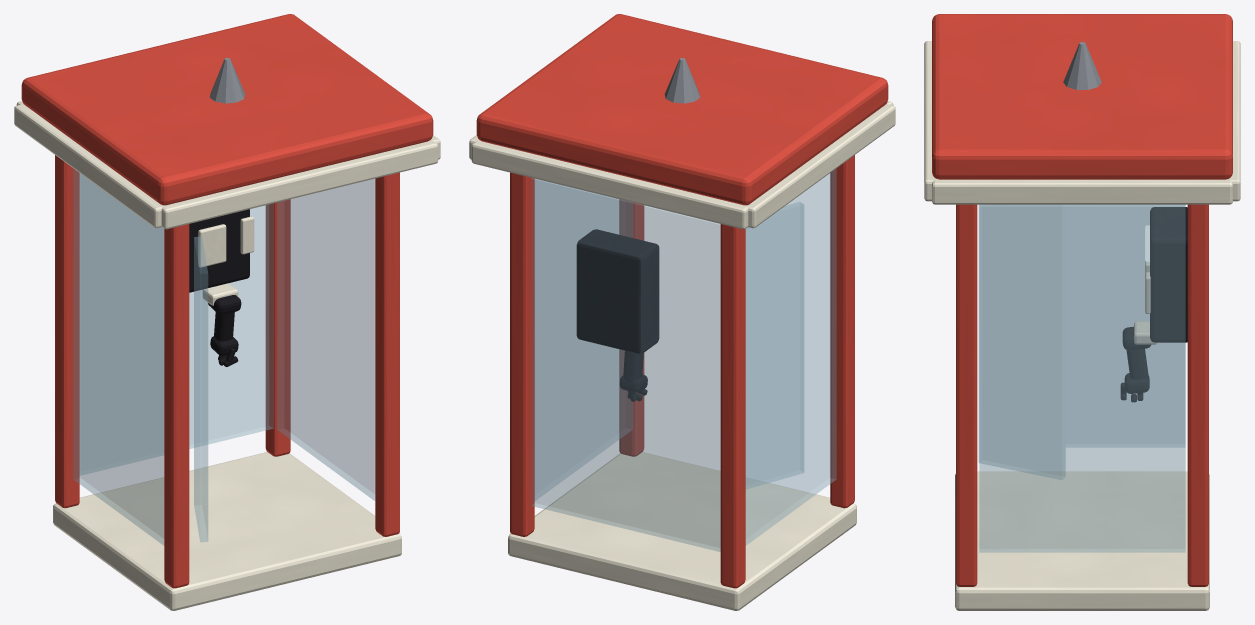
The model's file is misc_street_phone.glb.
The picture shows the model from 3 angles, left to right: view 1: azimuth 30°, elevation 25°; view 2: azimuth 150°, elevation 25°; view 3: azimuth 270°, elevation 25°; orthographic projection. The views are drawn at different scales.
Parts seen in each view (by area): view 1: misc_street_phone_roof, misc_street_phone_glass_back, misc_street_phone_plinth, misc_street_phone_glass_side_l, misc_street_phone_glass_side_r, misc_street_phone_post_lf, misc_street_phone_post_rf, misc_street_phone_post_lb, misc_street_phone_fascia_lf, misc_street_phone_post_rb, misc_street_phone_fascia_l, misc_street_phone_glass_door (+3 smaller); view 2: misc_street_phone_glass_back, misc_street_phone_roof, misc_street_phone_plinth, misc_street_phone_glass_side_l, misc_street_phone_glass_side_r, misc_street_phone_glass_door, misc_street_phone_post_lb, misc_street_phone_unit, misc_street_phone_post_rb, misc_street_phone_post_lf, misc_street_phone_fascia_rf, misc_street_phone_fascia_l (+2 smaller); view 3: misc_street_phone_glass_side_r, misc_street_phone_roof, misc_street_phone_plinth, misc_street_phone_glass_door, misc_street_phone_glass_side_l, misc_street_phone_post_rf, misc_street_phone_post_rb, misc_street_phone_fascia_r, misc_street_phone_unit, misc_street_phone_fascia_lf, misc_street_phone_fascia_rf, misc_street_phone_finial (+1 smaller).
Boxes of the visible parts, <box> form: misc_street_phone_roof: <box>21,14,433,205</box>; misc_street_phone_glass_back: <box>80,174,273,475</box>; misc_street_phone_plinth: <box>53,452,401,610</box>; misc_street_phone_glass_side_l: <box>73,169,163,545</box>; misc_street_phone_glass_side_r: <box>277,179,374,500</box>; misc_street_phone_post_lf: <box>164,224,189,588</box>; misc_street_phone_post_rf: <box>375,172,399,536</box>; misc_street_phone_post_lb: <box>55,155,79,508</box>; misc_street_phone_fascia_lf: <box>161,140,438,229</box>; misc_street_phone_post_rb: <box>265,199,290,456</box>; misc_street_phone_fascia_l: <box>14,104,163,228</box>; misc_street_phone_glass_door: <box>194,237,207,541</box>; misc_street_phone_glass_back: <box>531,178,720,551</box>; misc_street_phone_roof: <box>476,14,888,205</box>; misc_street_phone_plinth: <box>508,452,856,610</box>; misc_street_phone_glass_side_l: <box>746,169,836,545</box>; misc_street_phone_glass_side_r: <box>535,179,632,500</box>; misc_street_phone_glass_door: <box>746,202,803,488</box>; misc_street_phone_post_lb: <box>720,224,745,588</box>; misc_street_phone_unit: <box>576,229,659,353</box>; misc_street_phone_post_rb: <box>510,172,534,536</box>; misc_street_phone_post_lf: <box>830,155,854,508</box>; misc_street_phone_fascia_rf: <box>471,140,748,229</box>; misc_street_phone_fascia_l: <box>746,104,895,228</box>; misc_street_phone_glass_side_r: <box>979,205,1185,552</box>; misc_street_phone_roof: <box>932,14,1232,179</box>; misc_street_phone_plinth: <box>955,471,1209,610</box>; misc_street_phone_glass_door: <box>979,205,1065,479</box>; misc_street_phone_glass_side_l: <box>1066,205,1185,447</box>; misc_street_phone_post_rf: <box>956,204,977,586</box>; misc_street_phone_post_rb: <box>1187,204,1208,586</box>; misc_street_phone_fascia_r: <box>932,179,1232,204</box>; misc_street_phone_unit: <box>1150,207,1187,342</box>; misc_street_phone_fascia_lf: <box>924,41,937,201</box>; misc_street_phone_fascia_rf: <box>1227,41,1240,201</box>; misc_street_phone_finial: <box>1063,42,1101,89</box>.
Size of the model in its own units: 1.63 by 2.62 by 1.47.
6 materials, 5 textured.
